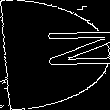N_W: (5, 34, 105, 76)
